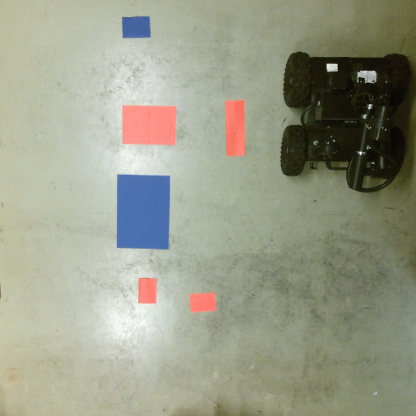Blue: (115, 174, 172, 251), (122, 16, 152, 38)
Jaguar: (279, 50, 410, 194)
Red: (120, 104, 178, 144), (223, 98, 247, 157), (189, 292, 216, 312), (138, 278, 157, 304)
